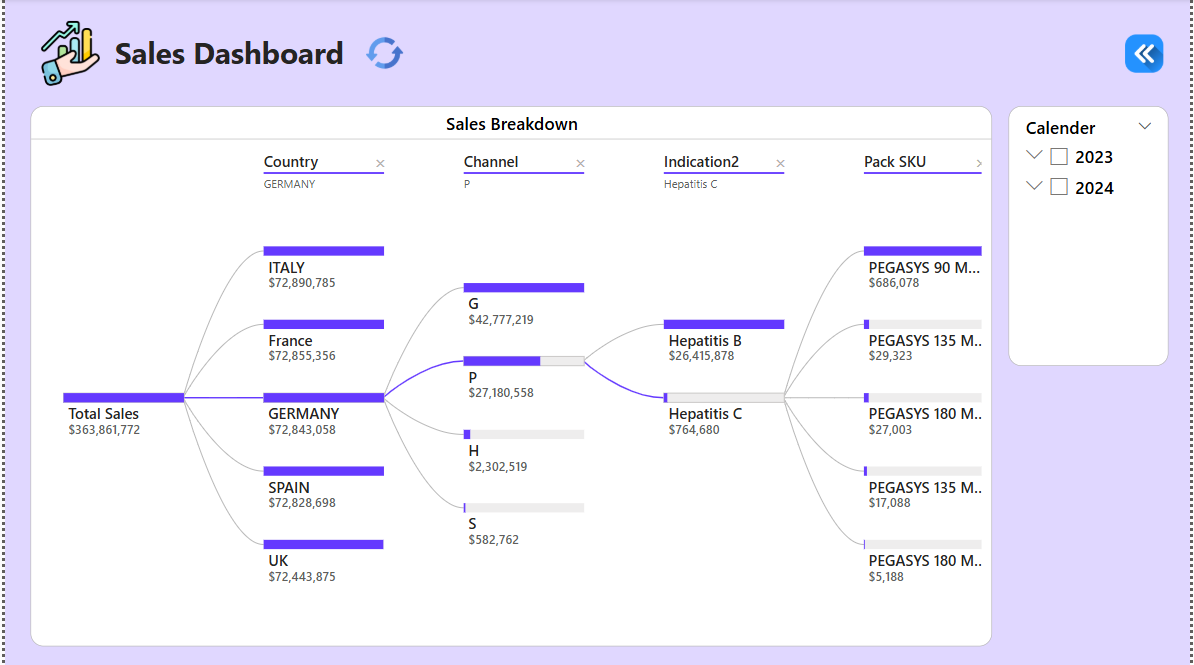

What the dashboard file says about the page in this screenshot:
{"tool":"powerbi","page":{"name":"Sales Breakdown","canvas":[1280,720],"ordinal":3},"visuals":[{"type":"decompositionTreeVisual","title":"Sales Breakdown","fields":{"Analyze":["Calculations.Total Sales"],"ExplainBy":["country.Country","channel.Channel","Indication2.Indication2","Product.Pack SKU"]},"box":[27.4,116.6,1038.2,583.2],"z":0},{"type":"slicer","fields":{"Values":["Calender2.Date.Variation.Date Hierarchy.Year","Calender2.Date.Variation.Date Hierarchy.Quarter","Calender2.Date.Variation.Date Hierarchy.Month","Calender2.Date.Variation.Date Hierarchy.Day"]},"box":[1082.9,116.6,172.8,280.8],"z":1000},{"type":"image","box":[27.4,20.2,86.4,80.6],"z":2000},{"type":"textbox","box":[113.8,30.2,270.7,60.5],"z":3000},{"type":"image","box":[384.5,34.6,51.8,50.4],"z":4000},{"type":"image","box":[1202.4,34.6,53.3,51.8],"z":5000}]}

Visuals, with their boxes in screenshot pixels (x1, y1, x2, y2), scaled from the page's 1280x720 canvas onto the 1194x665 screenshot:
"Sales Breakdown" decompositionTreeVisual: x1=26, y1=108, x2=994, y2=646
slicer - Calender2.Date.Variation.Date Hierarchy.Year x Calender2.Date.Variation.Date Hierarchy.Quarter: x1=1010, y1=108, x2=1171, y2=367
image: x1=26, y1=19, x2=106, y2=93
textbox: x1=106, y1=28, x2=359, y2=84
image: x1=359, y1=32, x2=407, y2=79
image: x1=1122, y1=32, x2=1171, y2=80
